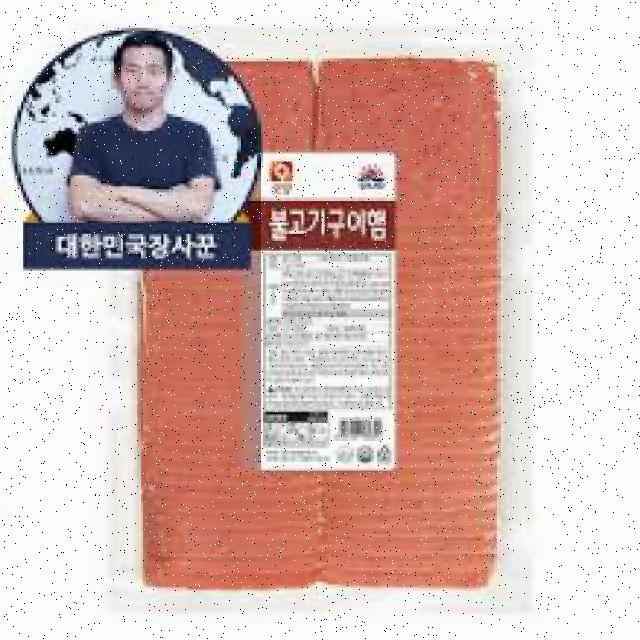Ham: (123, 15, 540, 620)
